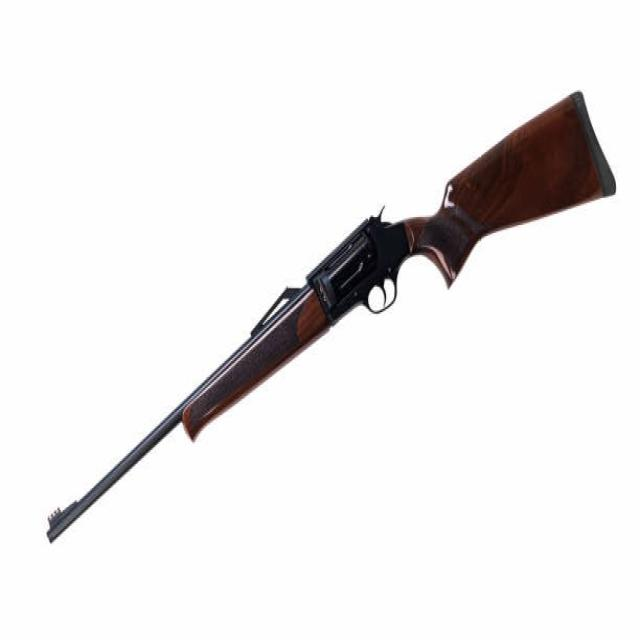rifle: (37, 85, 621, 554)
